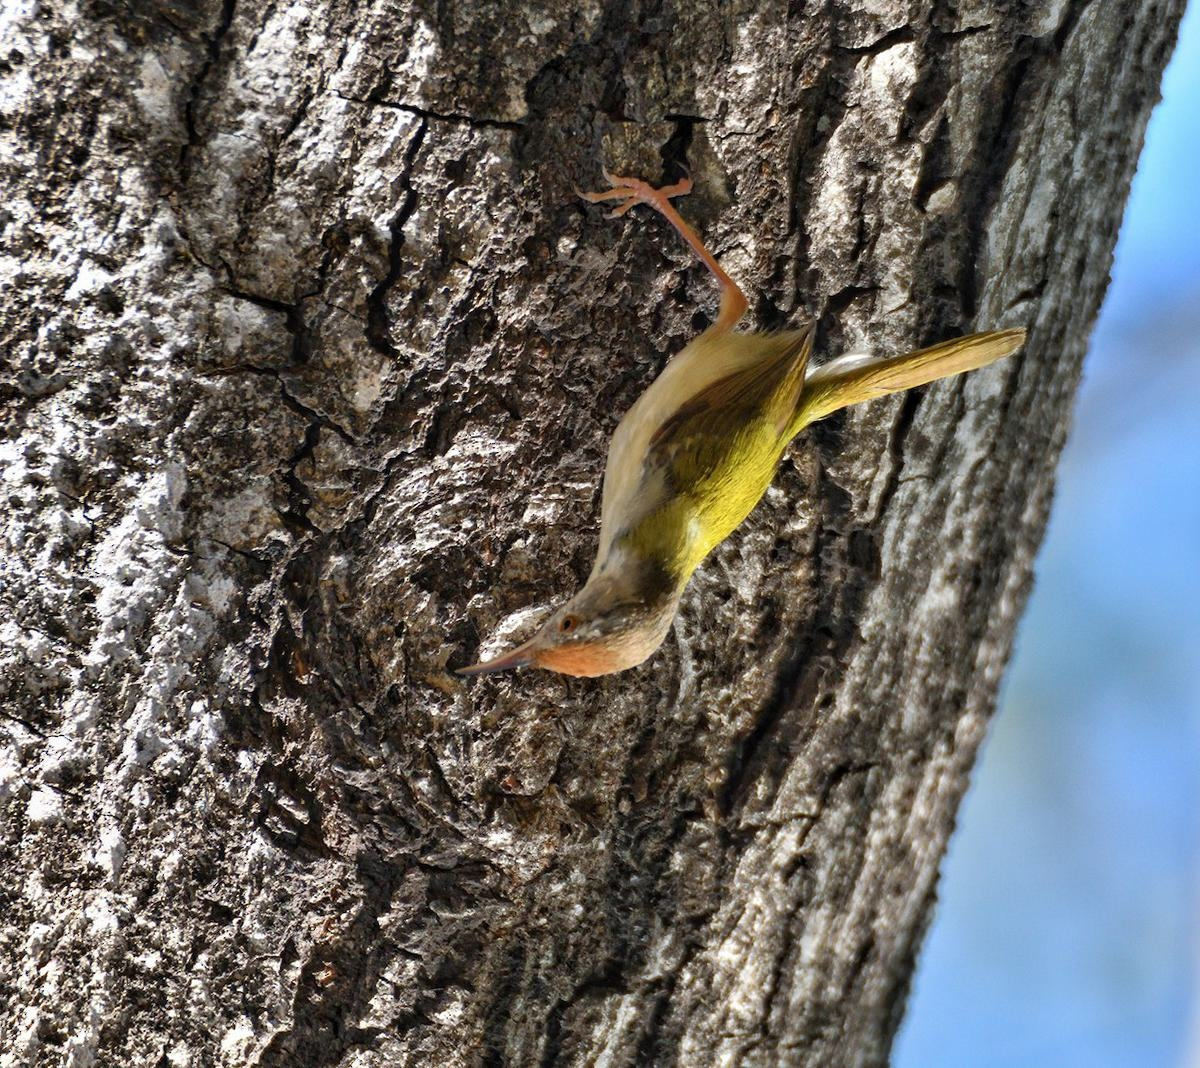tailorbird: (495, 225, 1040, 717)
